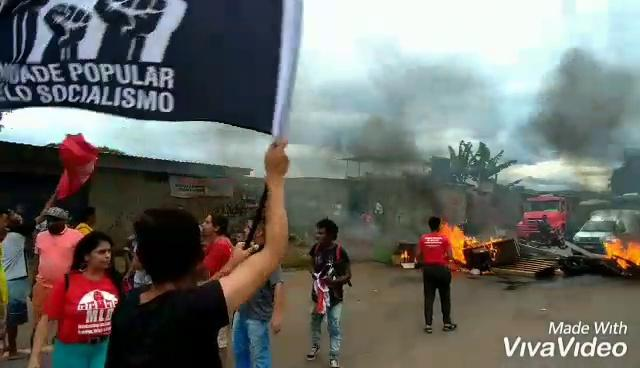smoke: (557, 65, 617, 151), (353, 116, 404, 166)
